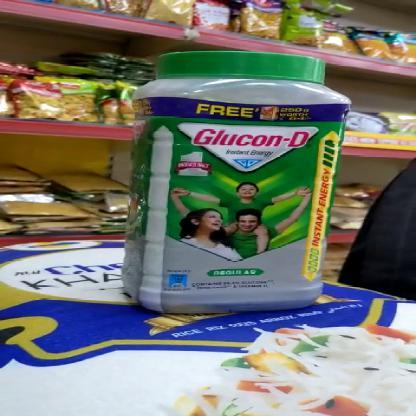Glucon D Regular 2-KG: (114, 50, 356, 312)
